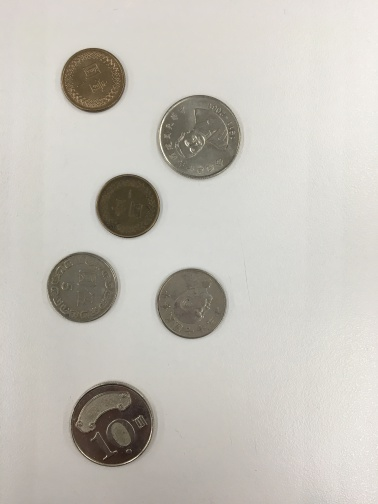1 dollar: (55, 40, 134, 123), (91, 170, 167, 243)
10 dollar: (57, 374, 172, 475), (153, 88, 249, 186)
5 dollar: (149, 258, 234, 346), (39, 245, 130, 326)
